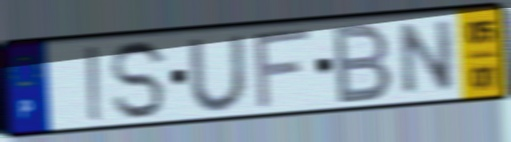B: (332, 20, 397, 107)
F: (251, 25, 315, 113)
I: (83, 43, 106, 125)
N: (398, 17, 456, 99)
S: (108, 37, 171, 123)
U: (184, 32, 251, 114)
